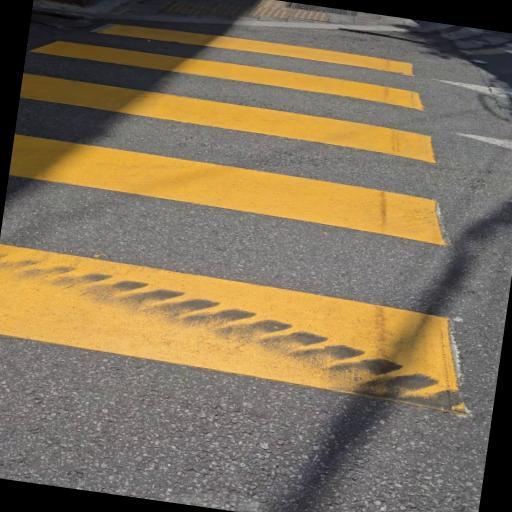yellow-crosswalk: (0, 0, 512, 430)
